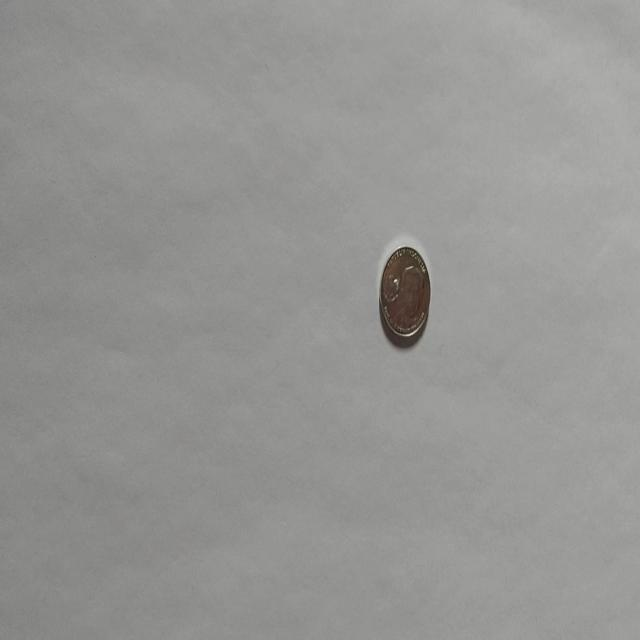seratus rupiah: (378, 244, 432, 342)
